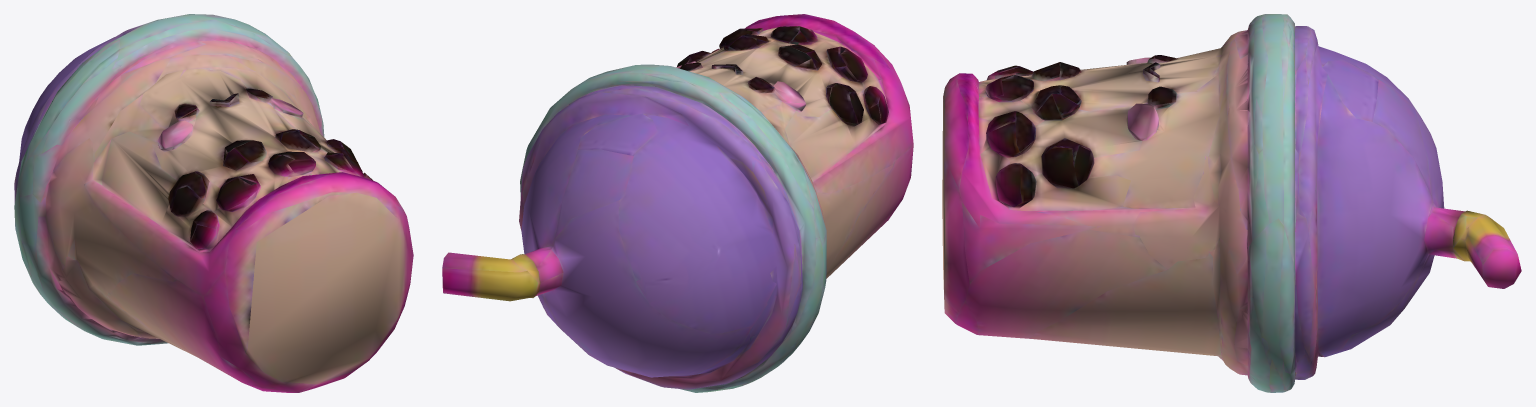
3 renders of one model, left to right at view 1: azimuth 30°, elevation 25°; view 2: azimuth 150°, elevation 25°; view 3: azimuth 270°, elevation 25°, orthographic. The views are drawn at different scales.
Parts seen in each view (by area): view 1: material; view 2: material; view 3: material.
Part boxes in pixels (left/top/right/bottom): material: left=14, top=14, right=413, bottom=392; material: left=442, top=14, right=913, bottom=392; material: left=942, top=14, right=1521, bottom=392.
Size of the model in its own units: 0.654 by 0.6567 by 1.
1 material, 1 textured.
